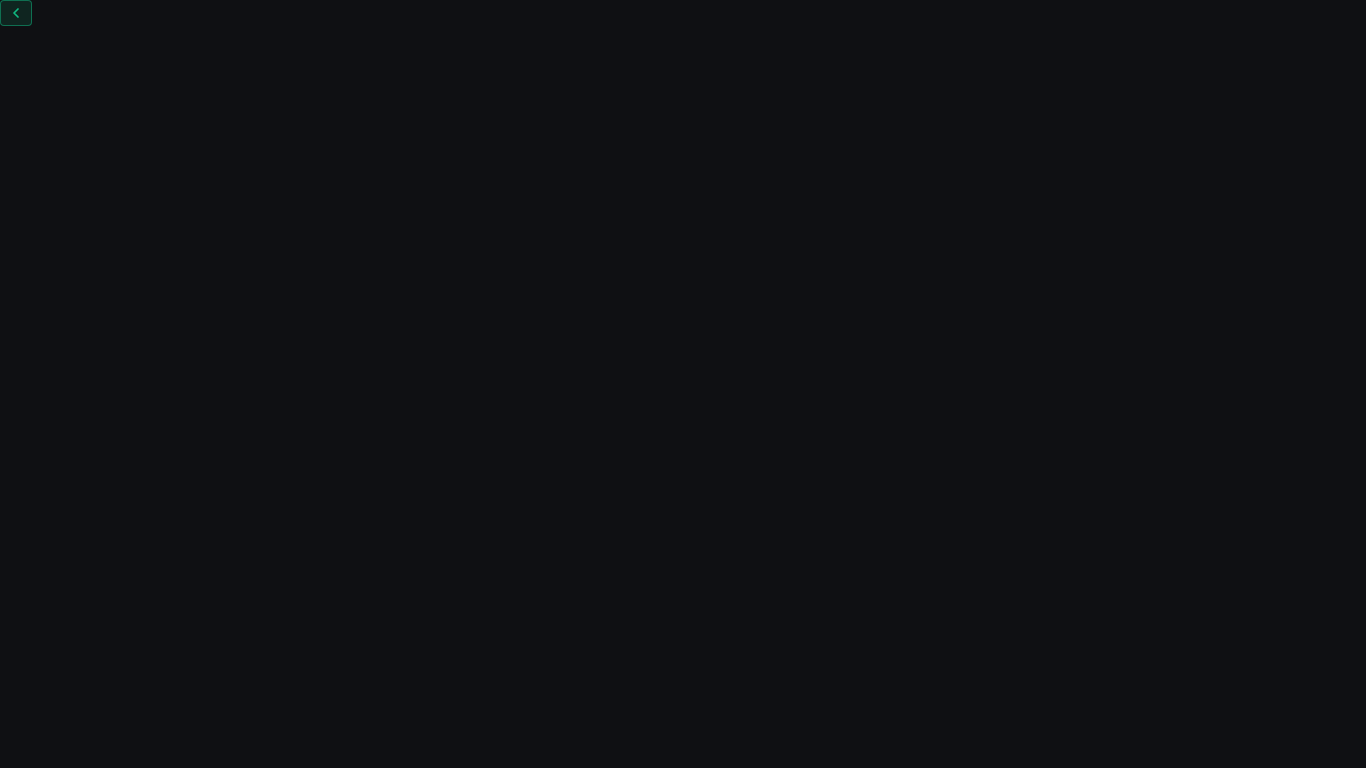
Test case: ViewSliderTrigger (boton en la barra superior) › abre y cierra el panel, y devuelve el foco al boton al cerrar con Esc
Later steps or results of the test are not shown.
What coordinates should you click on to do the following:
click the button with test id "view-slider-tab"
I would click on:
 (16, 13)
Its box is [0,0,32,26].
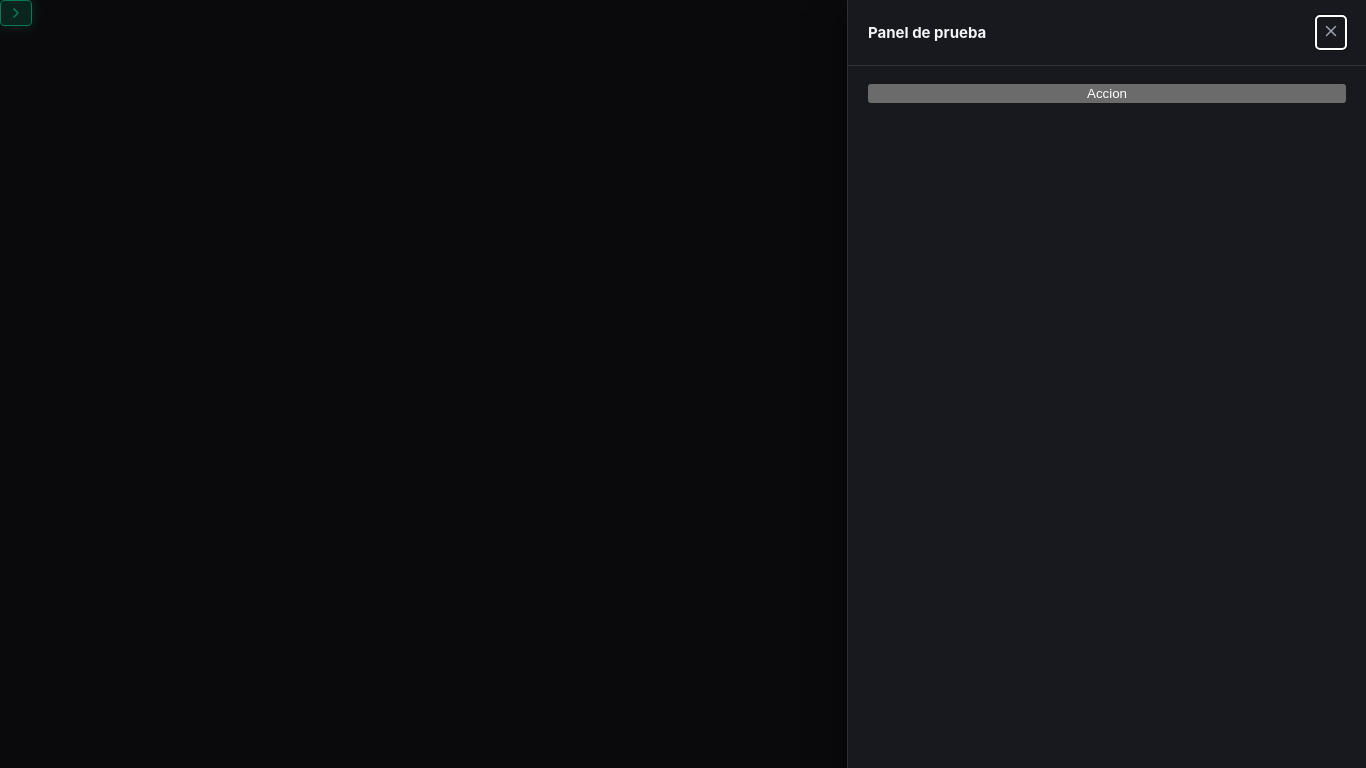
expect the button with test id "view-slider-tab" has attribute aria-label="Cerrar panel lateral: Panel de prueba": met, box [0,0,32,26]
